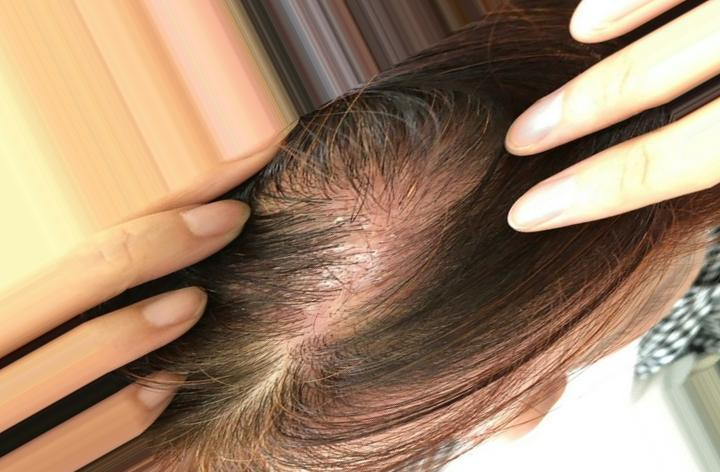Contact Dermatitis: (265, 155, 461, 334)
